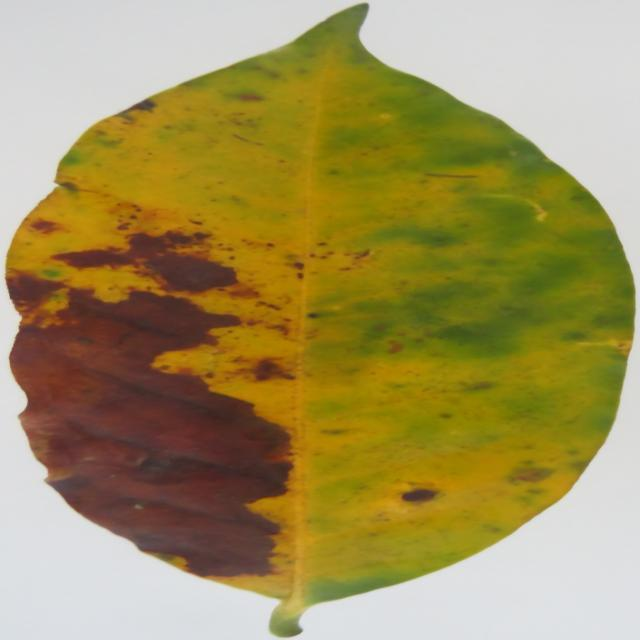DeficienciaNutricional-Fosforo: (6, 5, 631, 636)
